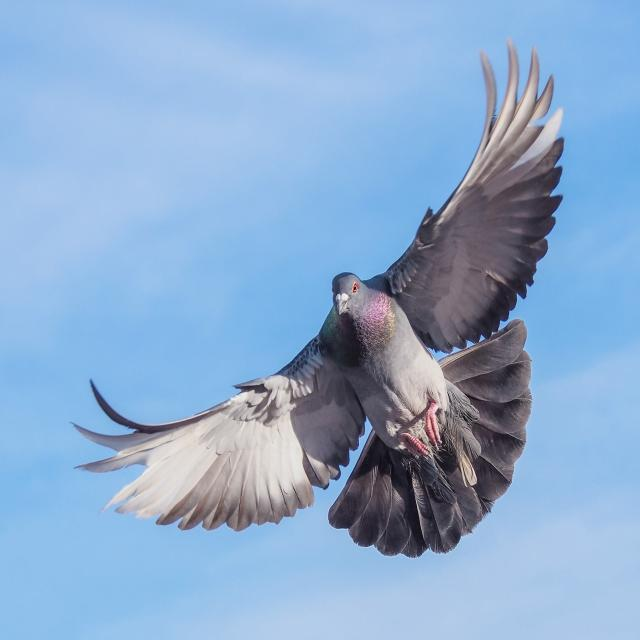bird: (54, 42, 580, 563)
